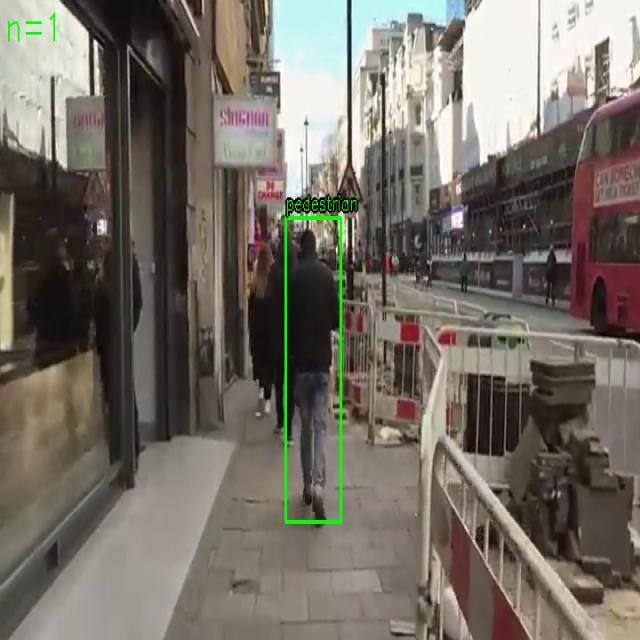person: (286, 217, 342, 523)
